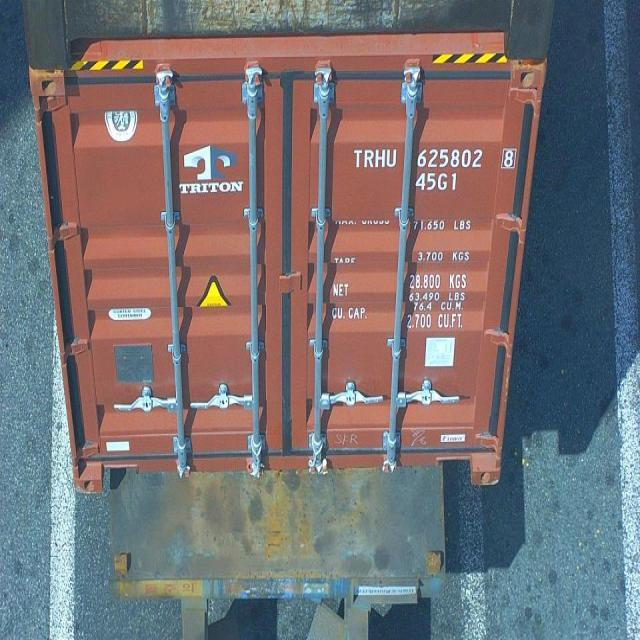ISO: (416, 172, 459, 191)
container_number: (358, 148, 518, 170)
